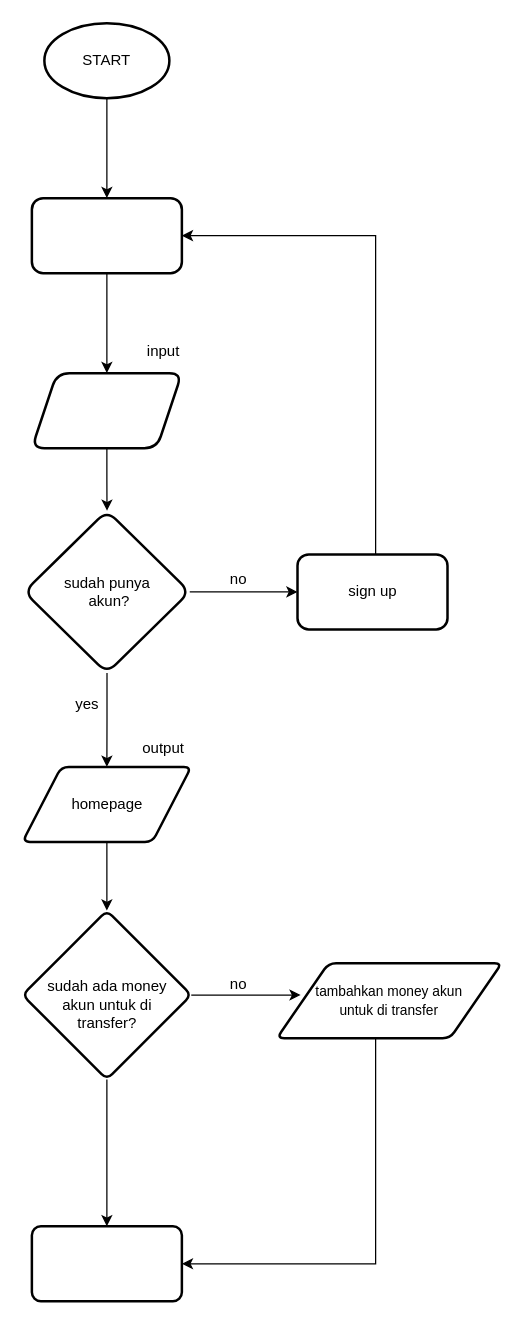
The diagram is 525 pixels wide and 1324 high, and some of its shapes have lost their labels. Here are the shapes that lost their labels. From the top down, the centre of each, then its label:
At (x=106, y=235): "login".
At (x=106, y=410): "email dan password".
At (x=106, y=1263): "pilih akun untuk transfer".
